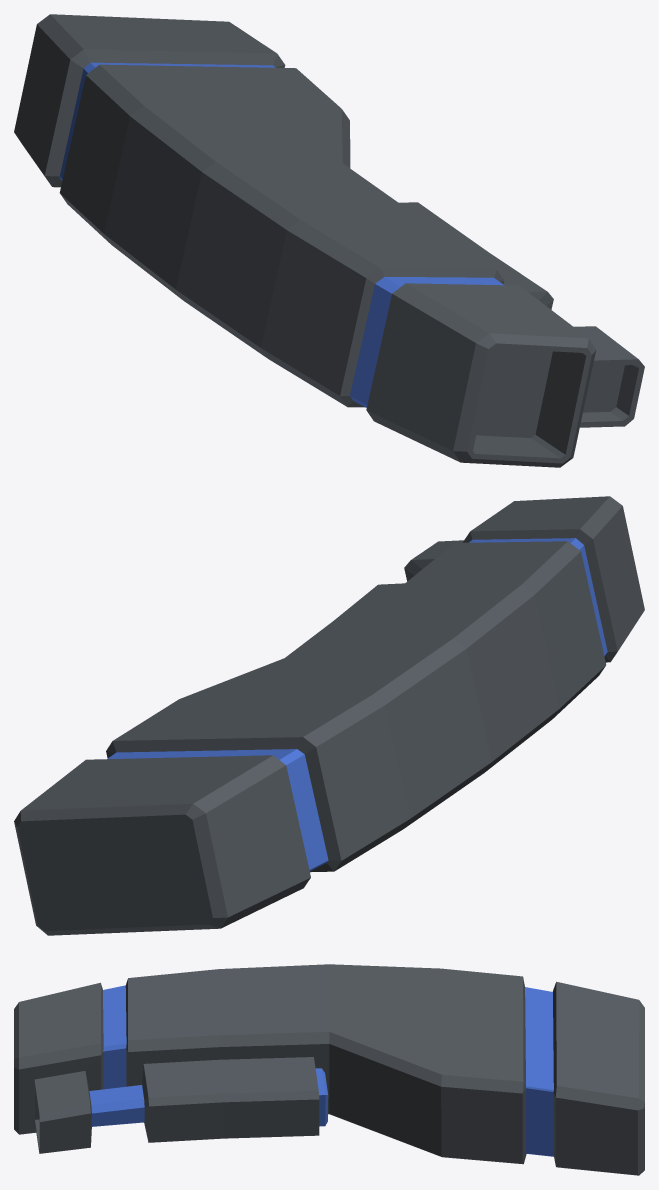
The model's file is Fighter_10_Light_Right_Blue.fbx.
The picture shows the model from 3 angles, top to bottom: view 1: azimuth 30°, elevation 25°; view 2: azimuth 150°, elevation 25°; view 3: azimuth 270°, elevation 25°; orthographic projection. The views are drawn at different scales.
Visible parts, largest first — view 1: Fighter_10_Light_Right_Blue; view 2: Fighter_10_Light_Right_Blue; view 3: Fighter_10_Light_Right_Blue.
Part boxes in pixels (x1,y1,x2,y2): Fighter_10_Light_Right_Blue: (14, 14, 644, 467); Fighter_10_Light_Right_Blue: (14, 496, 644, 935); Fighter_10_Light_Right_Blue: (14, 964, 644, 1175).
Size of the model in its own units: 337 by 229 by 929.
2 materials, 2 textured.
